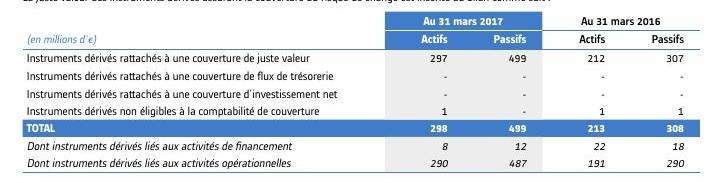table: (0, 0, 717, 183)
